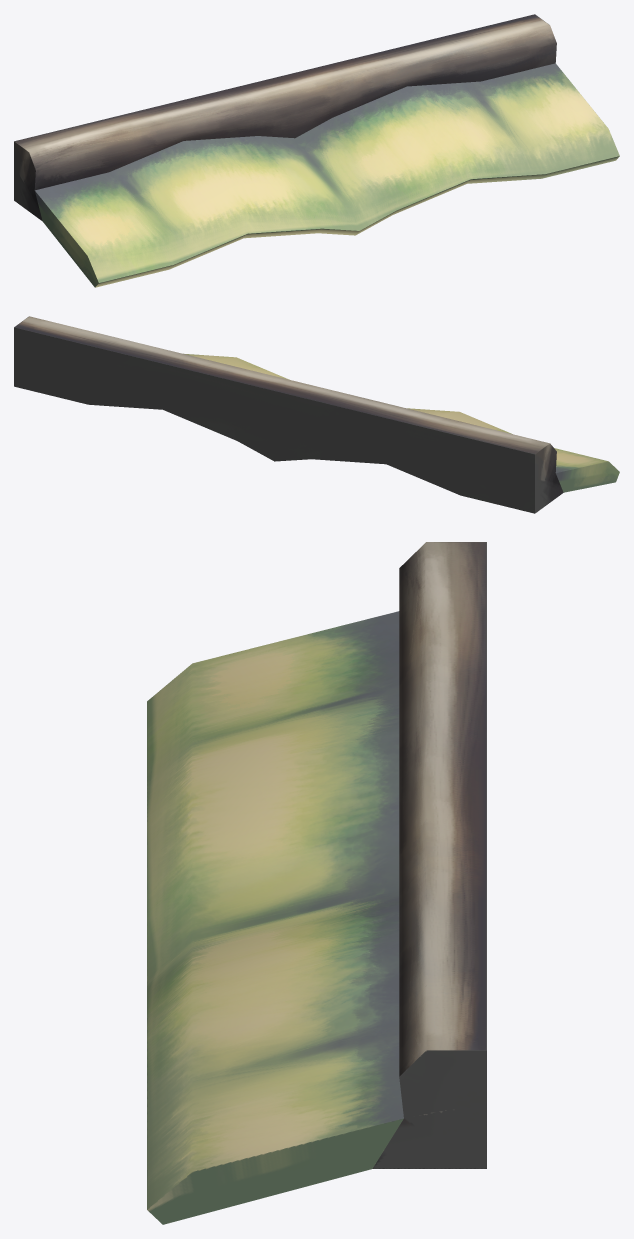
The model's file is Calha.fbx.
The picture shows the model from 3 angles, top to bottom: view 1: azimuth 30°, elevation 25°; view 2: azimuth 150°, elevation 25°; view 3: azimuth 270°, elevation 25°; orthographic projection. The views are drawn at different scales.
Parts seen in each view (by area): view 1: Calha; view 2: Calha; view 3: Calha.
Part boxes in pixels (x1,y1,x2,y2): Calha: [14, 14, 619, 287]; Calha: [14, 316, 619, 513]; Calha: [147, 542, 486, 1224].
Size of the model in its own units: 525 by 94.88 by 148.
